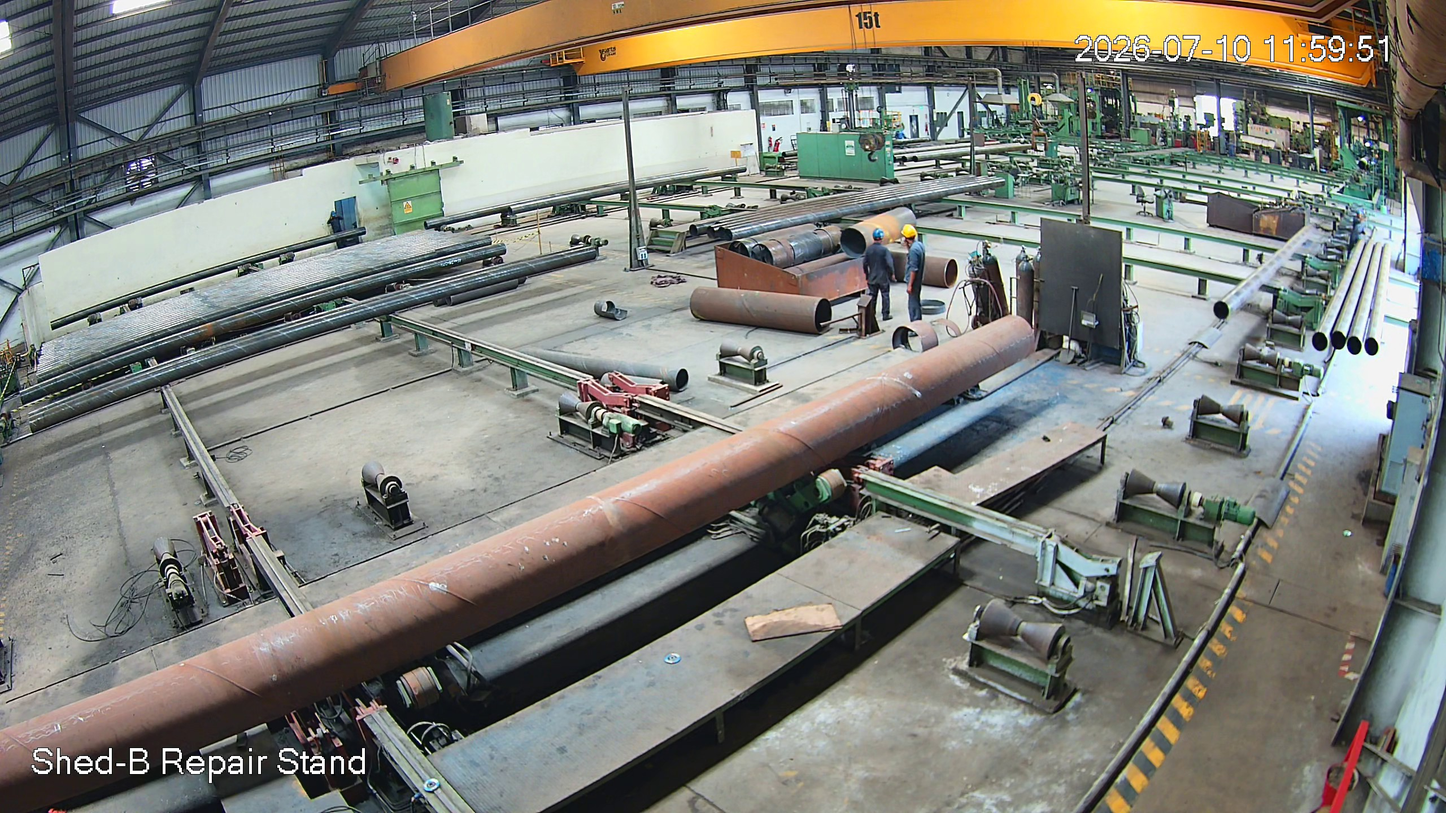Helmet: (897, 222, 923, 250), (869, 225, 885, 249)
Person: (893, 224, 934, 324), (862, 228, 894, 318)
